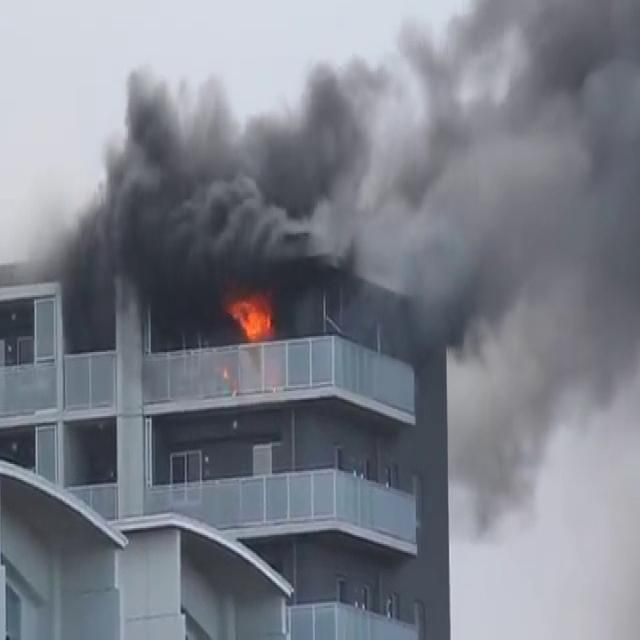Fire: (224, 284, 278, 340)
Smoke: (53, 1, 639, 357)
